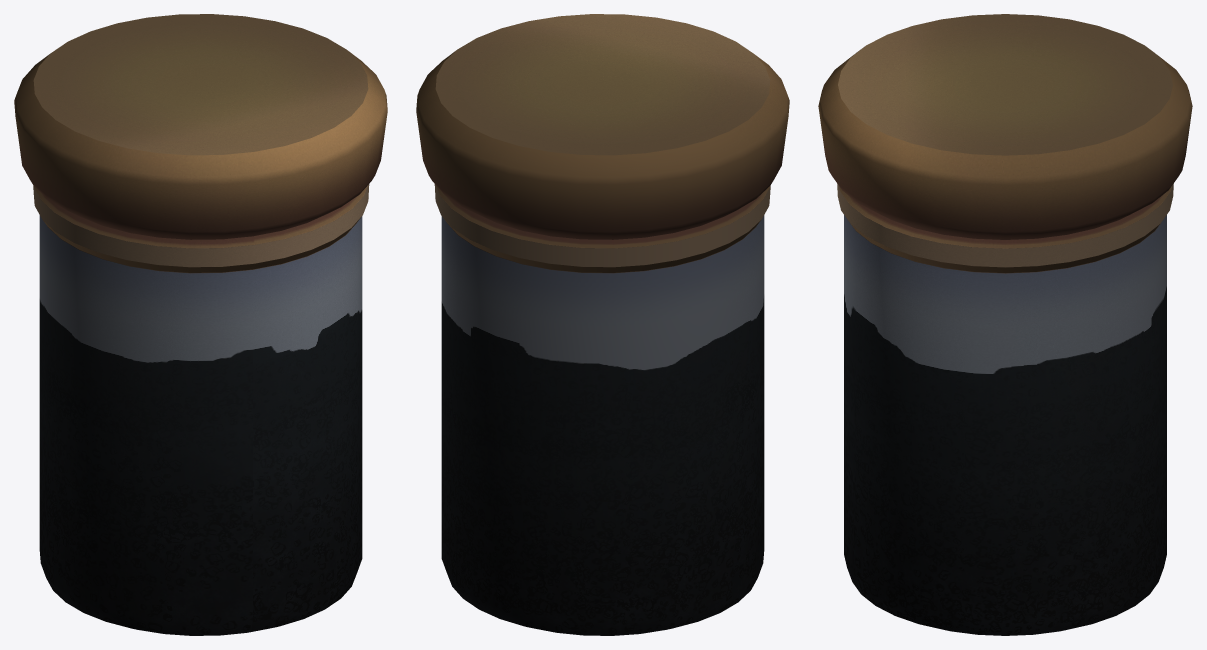
File: bottle large 01.fbx
3 renders of one model, left to right at view 1: azimuth 30°, elevation 25°; view 2: azimuth 150°, elevation 25°; view 3: azimuth 270°, elevation 25°, orthographic.
Parts seen in each view (by area): view 1: bottle large 01; view 2: bottle large 01; view 3: bottle large 01.
Boxes of the visible parts, x1,y1,x2,y2 form: bottle large 01: (14, 14, 387, 635); bottle large 01: (416, 14, 789, 635); bottle large 01: (818, 14, 1192, 635).
Bounding box in the file's own units: 209 × 303 × 209.
